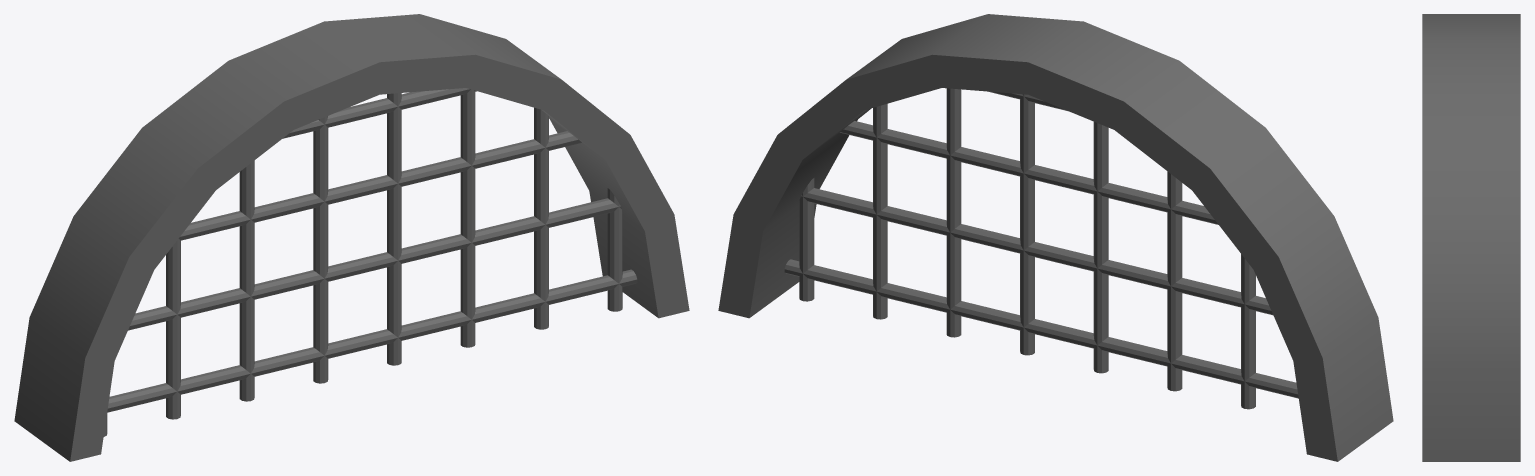
The model's file is obj_sewer_blocked_tunnel_1.fbx.
3 views of the same model, side by side, from view 1: azimuth 30°, elevation 25°; view 2: azimuth 150°, elevation 25°; view 3: azimuth 270°, elevation 25° (orthographic). The views are drawn at different scales.
Visible parts, largest first — view 1: obj_sewer_blocked_tunnel_1; view 2: obj_sewer_blocked_tunnel_1; view 3: obj_sewer_blocked_tunnel_1.
Boxes of the visible parts, box(x1,y1,x2,y2) form: obj_sewer_blocked_tunnel_1: box(14, 14, 689, 461); obj_sewer_blocked_tunnel_1: box(718, 14, 1393, 461); obj_sewer_blocked_tunnel_1: box(1422, 14, 1520, 461).
Bounding box in the file's own units: 5.39 × 2.7 × 0.8401.
1 material, 1 textured.
